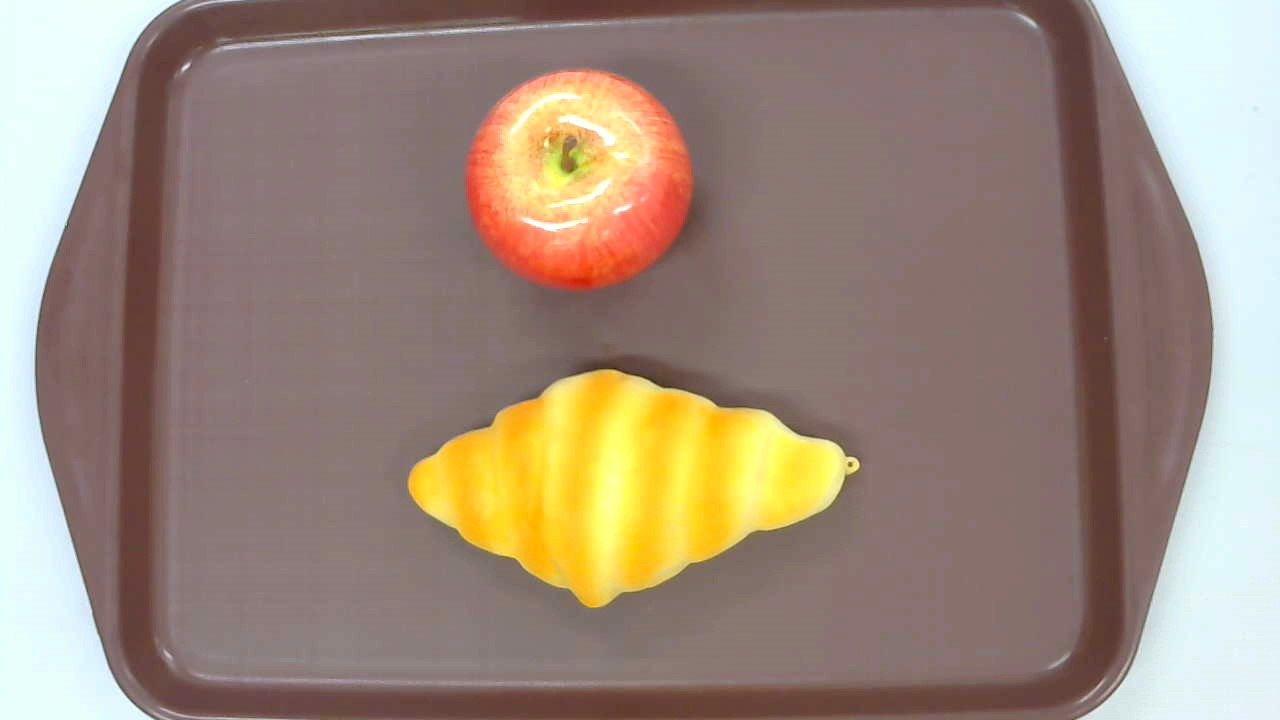croissant: (406, 368, 858, 606)
red apple: (464, 68, 694, 293)
